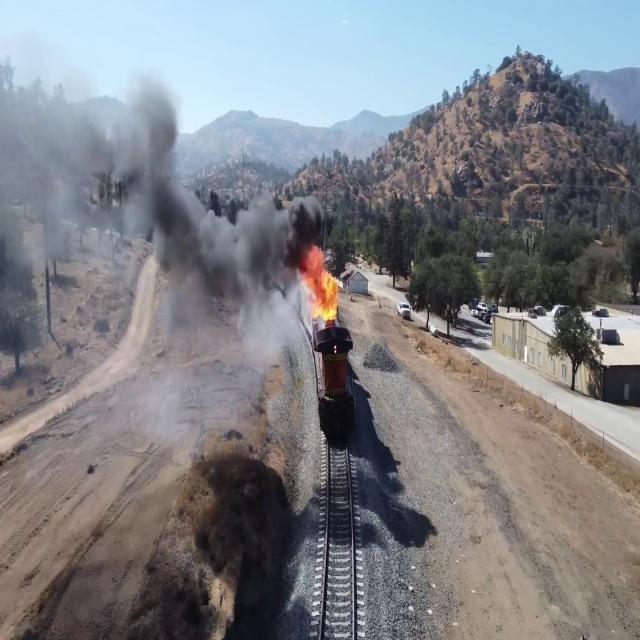Fire: (309, 254, 339, 326)
Smoke: (198, 198, 272, 289), (156, 203, 215, 286), (262, 197, 320, 265)
